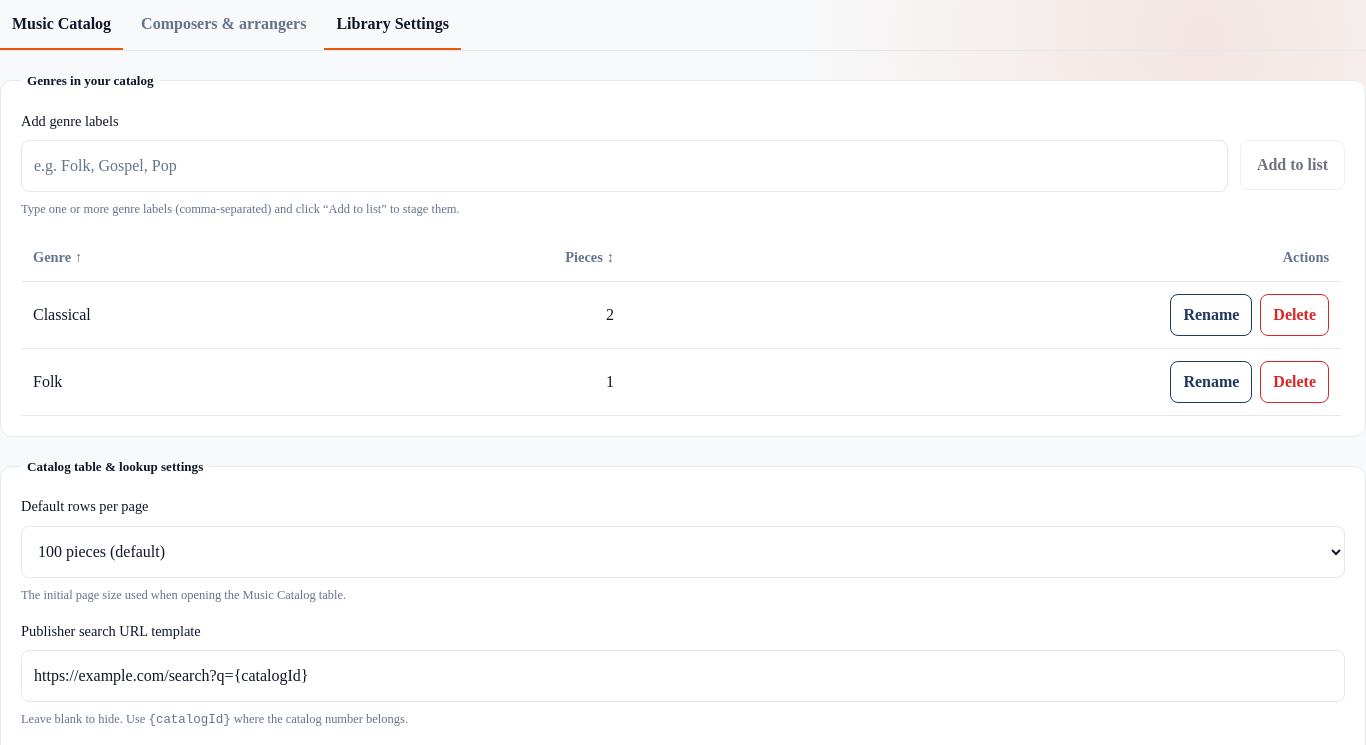
it: MusicLibrarySettingsPage genre management with DataTable & batch add › removes a pending genre or clears all staged genres
Type "Opera, Pop" into the field labelled "Add genre labels" at (624, 166), box [21,140,1228,192]
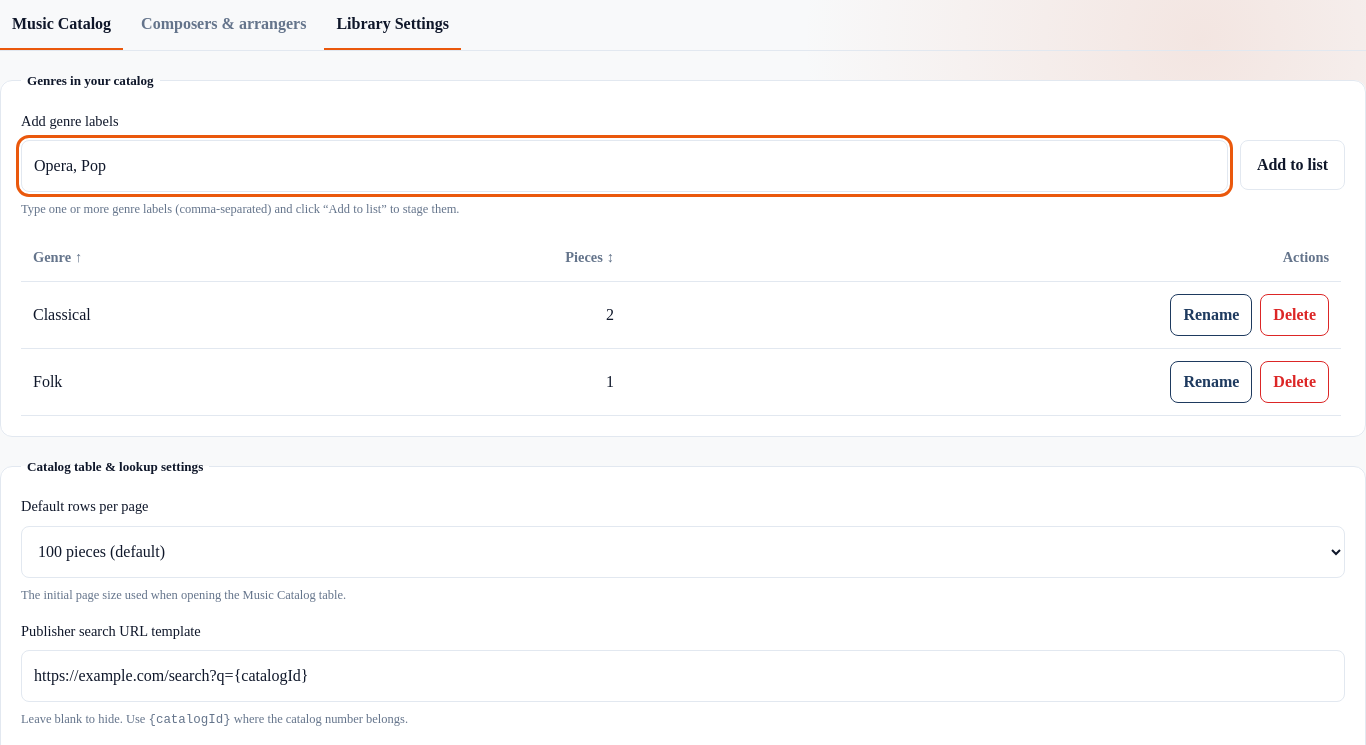
Click the button "Add to list" at (1292, 165), box [1240,140,1345,190]
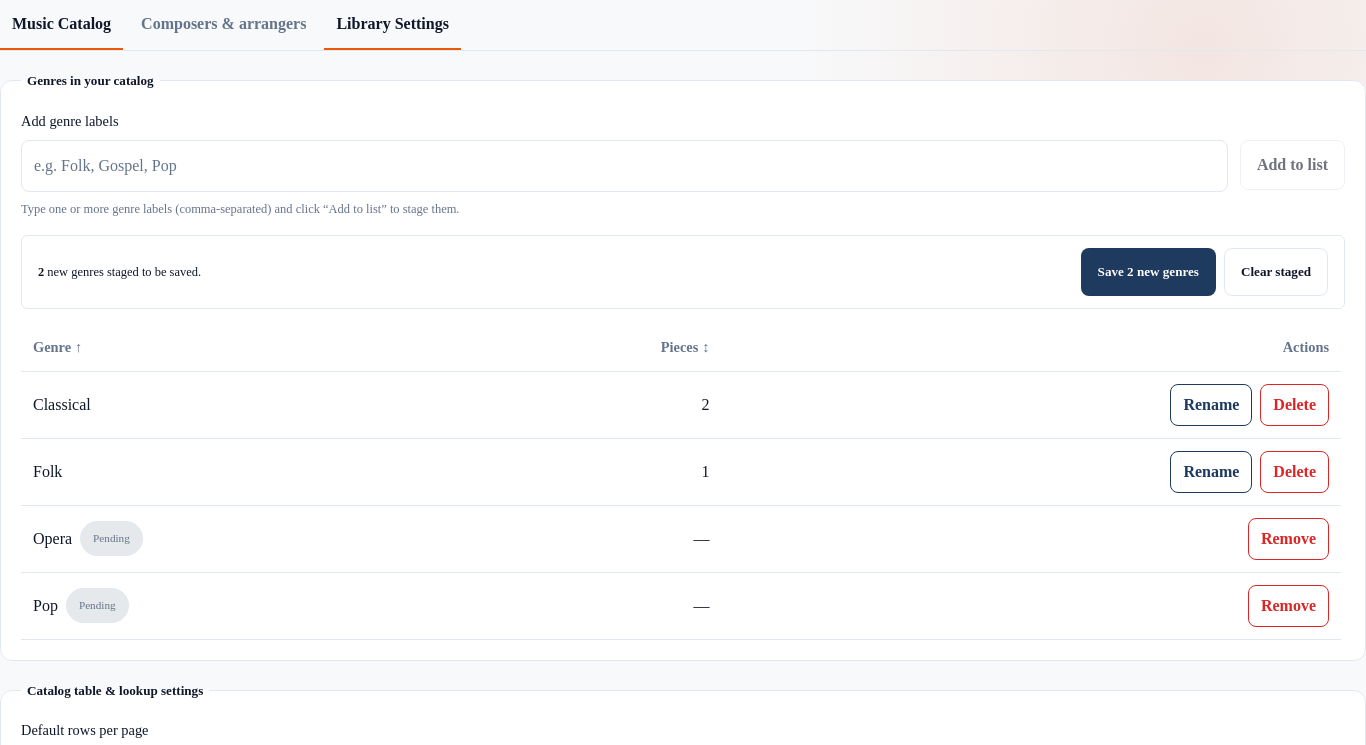
expect the text "Opera" is shown: met, box [33,527,72,551]
expect the text "Pop" is shown: met, box [33,594,58,618]
Note: Remove single pending genre
Click the button with aria-label "Remove pending genre Opera" at (1288, 539), box [1248,518,1329,560]
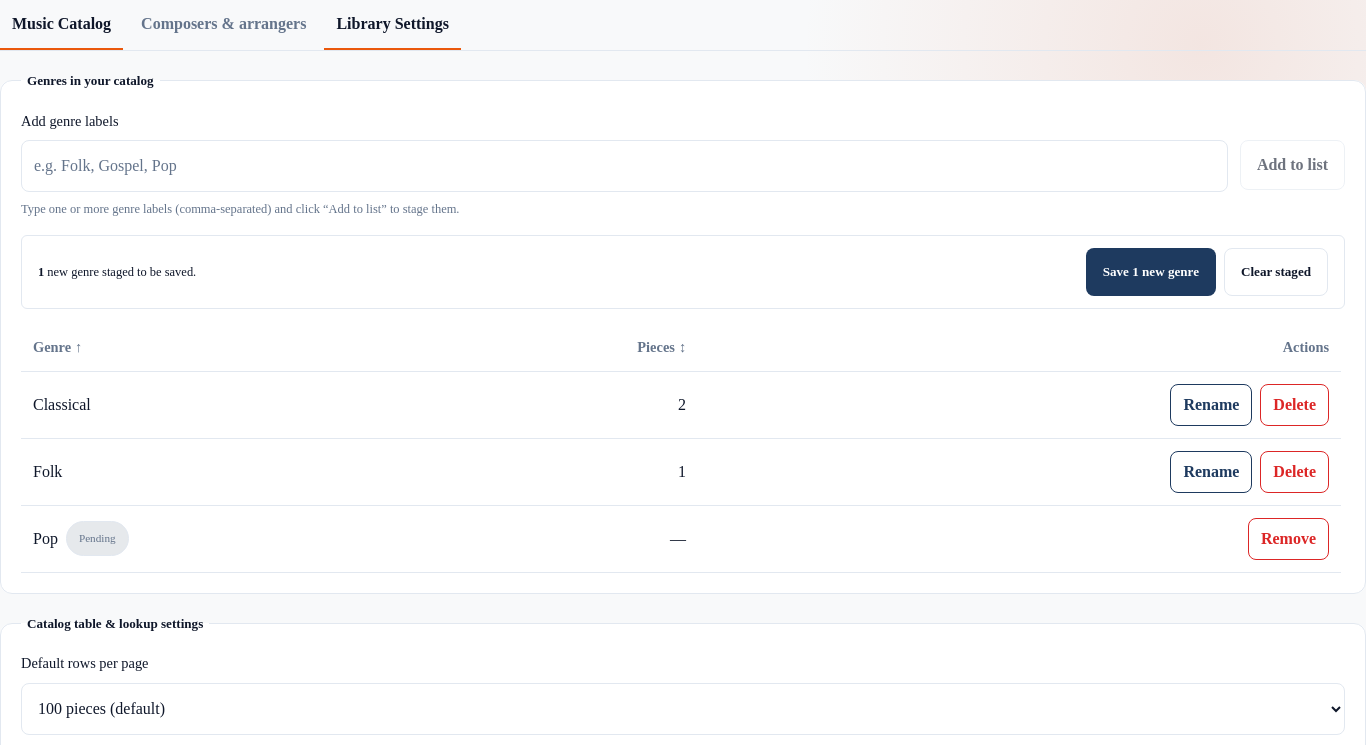
expect the text "Pop" is shown: met, box [33,527,58,551]
expect the text "Opera" is gone: met
expect the element named "Staged genres" shows "1 new genre staged to be saved.": met, box [21,235,1345,309]
Note: Clear remaining staged
Click the button "Clear staged" at (1276, 272), box [1224,248,1328,296]
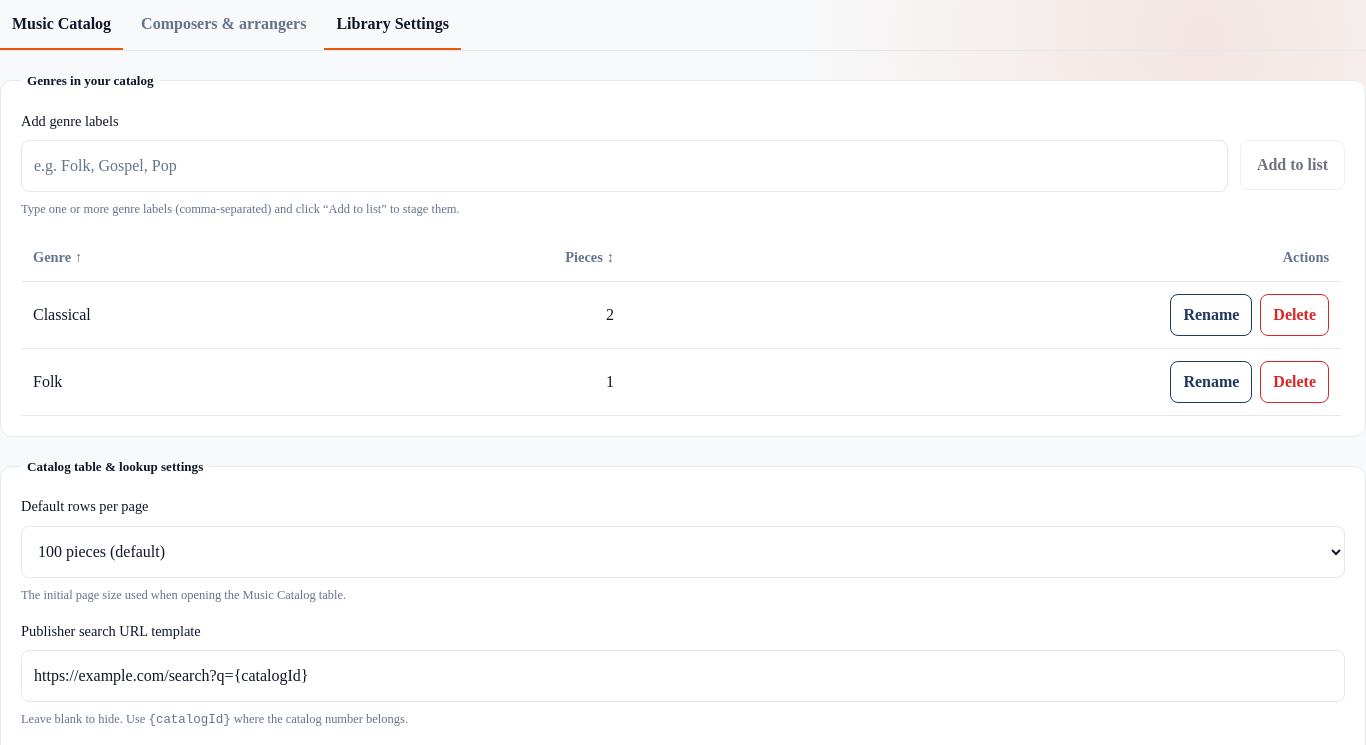
expect the button "Clear staged" is gone: met
